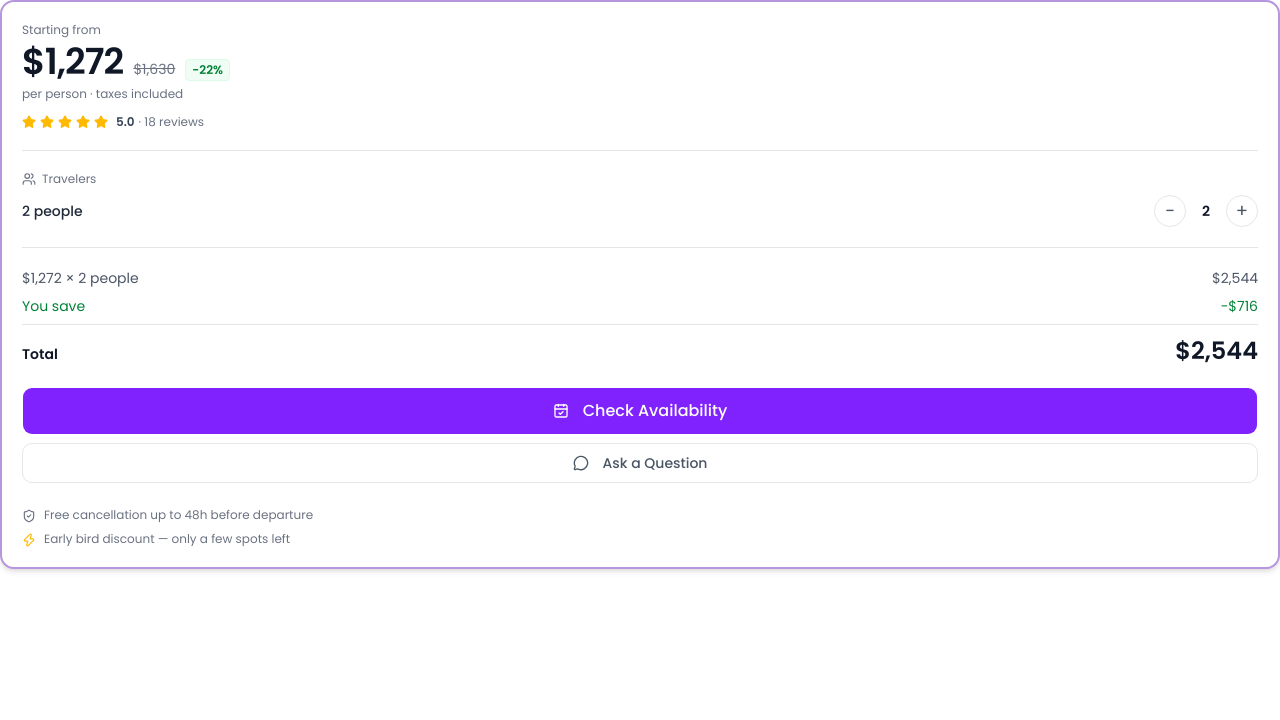
BookingCard › shows singular 'person' when travelers is 1
This screenshot has width=1280, height=720.
Click the button "−" at point(1170, 211), box [1154,195,1186,227]
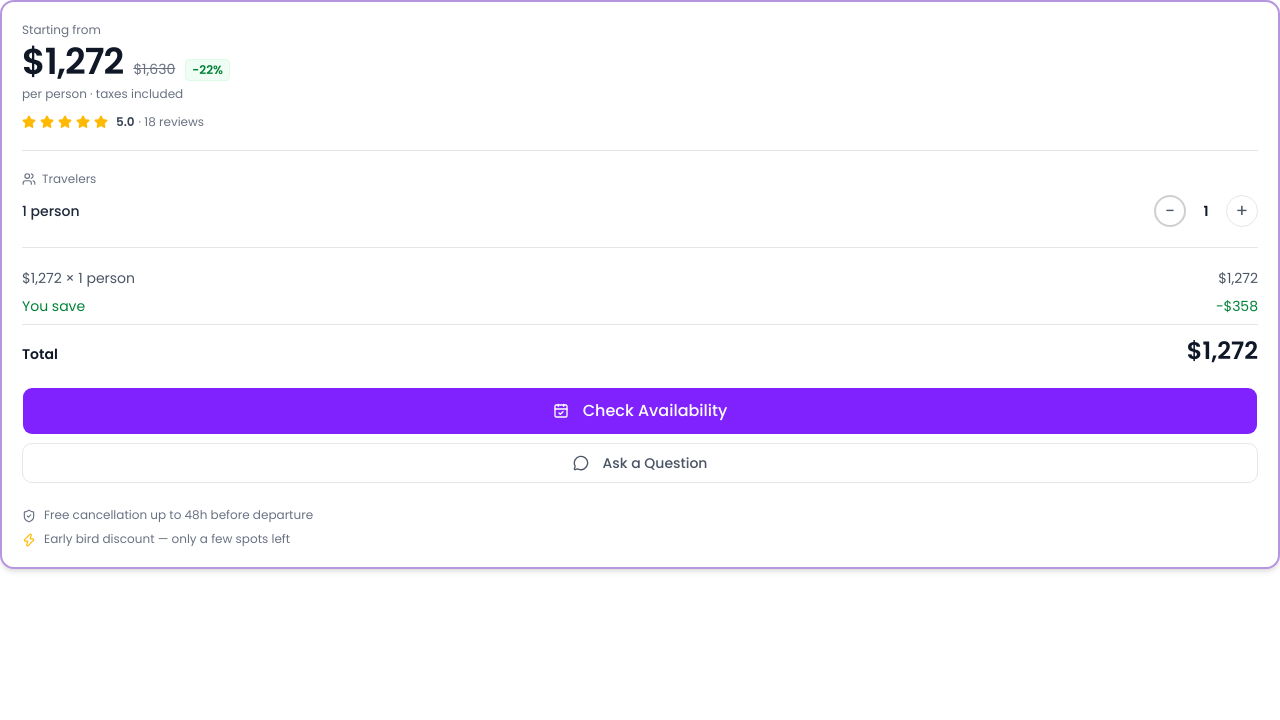
Check: the text "1 person" is shown, box [22,201,80,221]
